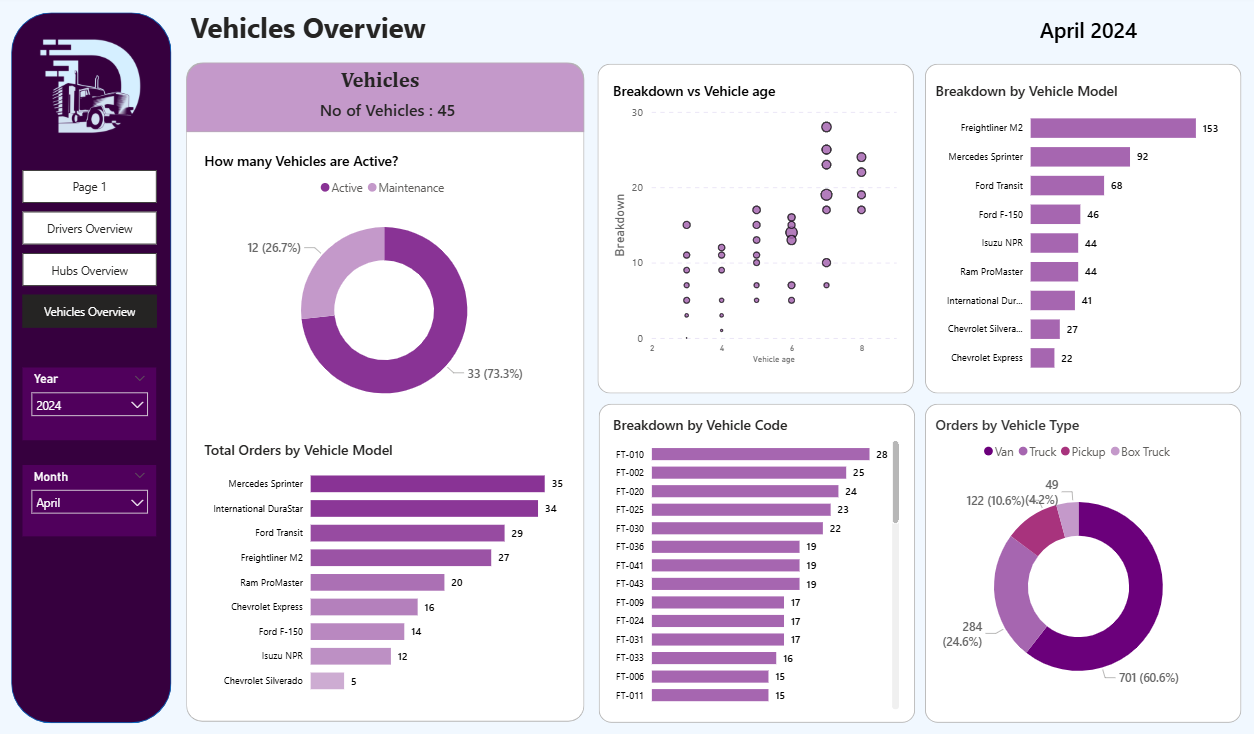

This screenshot's page, from the dashboard's own definition file:
{"tool":"powerbi","page":{"name":"Vehicles Overview ","canvas":[1450,850],"ordinal":3},"visuals":[{"type":"shape","box":[12.4,14,185,820.8],"z":0},{"type":"textbox","box":[214.5,4.7,531.6,68.4],"z":1000},{"type":"slicer","fields":{"Values":["Date Table.Year"]},"box":[26.3,424.7,154.7,84],"z":2000},{"type":"slicer","fields":{"Values":["Date Table.Month"]},"box":[26.3,536.7,154.7,82.3],"z":3000},{"type":"image","box":[26.3,32.9,159.7,141.6],"z":4000},{"type":"cardVisual","fields":{"Data":["Vehicles.Month Year"]},"box":[1183.6,0,233.8,67.5],"z":5000},{"type":"shape","box":[690.2,73.1,365.3,380.8],"z":6000},{"type":"shape","box":[214.5,72.6,459.7,761.3],"z":7000},{"type":"shape","box":[214.5,72.6,459.7,80.6],"z":8000},{"type":"textbox","box":[362.9,72.6,153.2,40.3],"z":9000},{"type":"cardVisual","fields":{"Data":["Vehicles.No of vehicles"]},"box":[351.6,96.8,233.9,56.5],"z":10000},{"type":"donutChart","title":"How many Vehicles are Active?","fields":{"Category":["Vehicles.Vehicle Status"],"Y":["CountNonNull(Vehicles.Vehicle ID)"]},"box":[230.6,174.2,425.8,316.1],"z":11000},{"type":"barChart","title":"Total Orders by Vehicle Model","fields":{"Category":["Vehicles.Vehicle Model"],"Y":["Orders.Total Orders"]},"box":[230.6,508.1,425.8,304.8],"z":12000},{"type":"shape","box":[1067.9,73.1,365.3,380.8],"z":13000},{"type":"scatterChart","title":"Breakdown vs Vehicle age","fields":{"X":["Vehicles.Vehicle age"],"Y":["Vehicles.Breakdown"],"Size":["Sum(Vehicles.Breakdown)"]},"box":[702.6,93.3,340.4,331.1],"z":14000},{"type":"shape","box":[691.7,466.3,365.3,368.4],"z":15000},{"type":"clusteredBarChart","title":"Breakdown by Vehicle Code","fields":{"Category":["Vehicles.Vehicle Code"],"Y":["Sum(Vehicles.Breakdown)"]},"box":[702.6,478.8,340.4,345.1],"z":16000},{"type":"clusteredBarChart","title":"Breakdown by Vehicle Model","fields":{"Y":["Sum(Vehicles.Breakdown)"],"Category":["Vehicles.Vehicle Model"]},"box":[1075.7,93.3,340.4,349.8],"z":17000},{"type":"shape","box":[1067.9,466.3,365.3,368.4],"z":18000},{"type":"donutChart","title":"Orders by Vehicle Type","fields":{"Category":["Orders.Vehicle Type"],"Y":["Orders.Total Orders"]},"box":[1075.7,478.8,340.4,345.1],"z":19000},{"type":"pageNavigator","box":[26.4,195.9,155.4,185],"z":20000}]}

Visuals, with their boxes in screenshot pixels (x1, y1, x2, y2), scaled from the page's 1450x850 canvas onto the 1254x734 screenshot:
shape: [11,12,171,721]
textbox: [186,4,645,63]
slicer - Date Table.Year: [23,367,157,439]
slicer - Date Table.Month: [23,463,157,535]
image: [23,28,161,151]
cardVisual - Vehicles.Month Year: [1024,0,1226,58]
shape: [597,63,913,392]
shape: [186,63,583,720]
shape: [186,63,583,132]
textbox: [314,63,446,97]
cardVisual - Vehicles.No of vehicles: [304,84,506,132]
"How many Vehicles are Active?" donutChart: [199,150,568,423]
"Total Orders by Vehicle Model" barChart: [199,439,568,702]
shape: [924,63,1239,392]
"Breakdown vs Vehicle age" scatterChart: [608,81,902,366]
shape: [598,403,914,721]
"Breakdown by Vehicle Code" clusteredBarChart: [608,413,902,711]
"Breakdown by Vehicle Model" clusteredBarChart: [930,81,1225,383]
shape: [924,403,1239,721]
"Orders by Vehicle Type" donutChart: [930,413,1225,711]
pageNavigator: [23,169,157,329]
